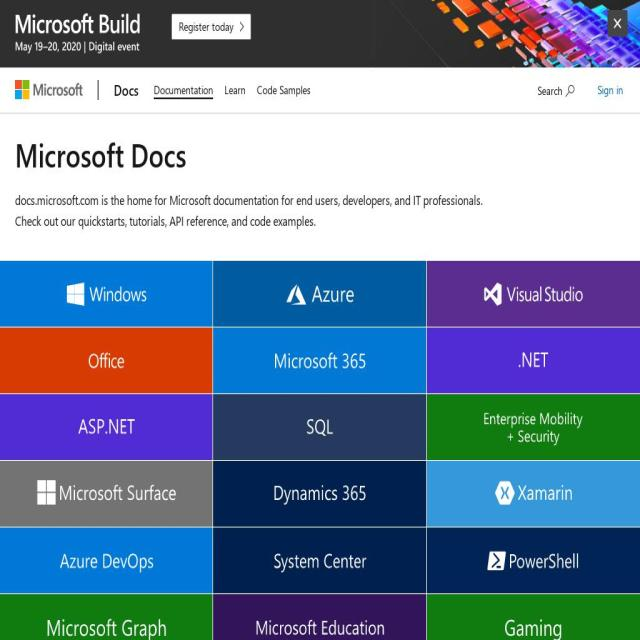button: (0, 260, 214, 328), (213, 260, 427, 328), (426, 260, 640, 328), (0, 393, 214, 461), (213, 393, 427, 461), (426, 393, 640, 461), (0, 460, 214, 528), (213, 460, 427, 528), (426, 460, 640, 528), (0, 327, 214, 394), (213, 327, 427, 394), (426, 327, 640, 394), (0, 527, 214, 594), (213, 527, 427, 594), (426, 527, 640, 594), (0, 593, 214, 640), (213, 593, 427, 640), (426, 593, 640, 640), (149, 66, 218, 112), (252, 66, 316, 112), (528, 66, 588, 112), (171, 13, 252, 40), (108, 66, 144, 112), (218, 66, 252, 112), (590, 77, 630, 103), (608, 10, 628, 37), (0, 0, 19, 26)
heading: (15, 132, 625, 176)
image: (0, 260, 214, 328), (213, 260, 427, 328), (426, 260, 640, 328), (0, 393, 214, 461), (213, 393, 427, 461), (426, 393, 640, 461), (0, 460, 214, 528), (213, 460, 427, 528), (426, 460, 640, 528), (0, 327, 214, 394), (213, 327, 427, 394), (426, 327, 640, 394), (0, 527, 214, 594), (213, 527, 427, 594), (426, 527, 640, 594), (0, 593, 214, 640), (213, 593, 427, 640), (426, 593, 640, 640), (15, 14, 140, 54)
text: (15, 188, 495, 231), (178, 17, 234, 36), (154, 82, 213, 98), (257, 82, 311, 98), (114, 81, 138, 98), (538, 83, 562, 99), (224, 82, 246, 98)
